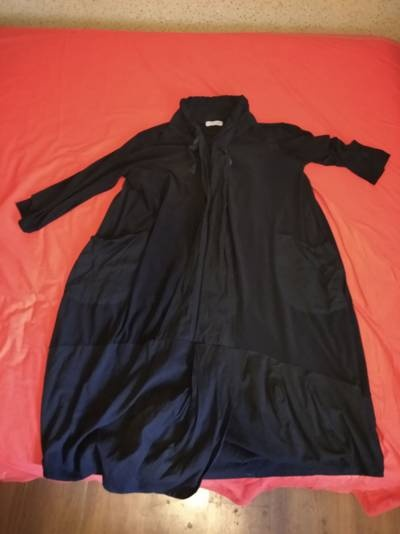Dress: (16, 87, 398, 490)
